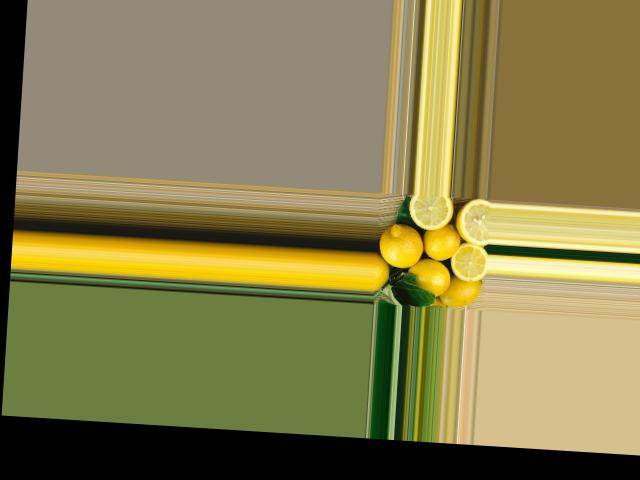lemon: (437, 274, 482, 309)
